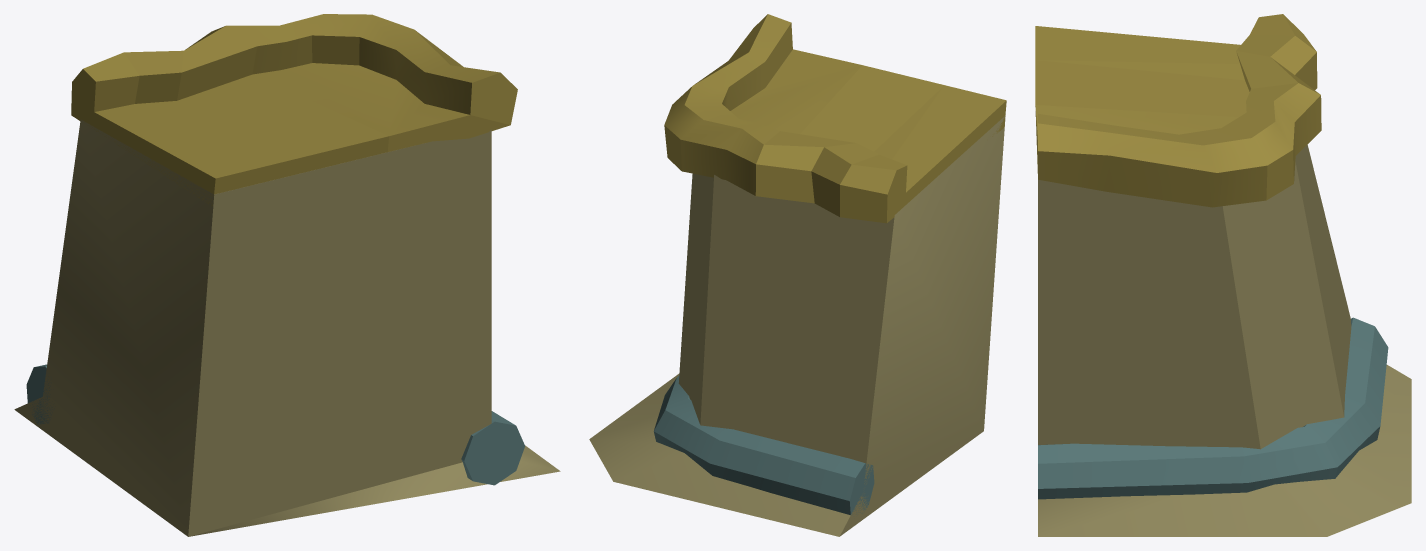
File: Int_11_Wall_Left_Down_Diagonal.fbx
3 views of the same model, side by side, from view 1: azimuth 30°, elevation 25°; view 2: azimuth 150°, elevation 25°; view 3: azimuth 270°, elevation 25° (orthographic). The views are drawn at different scales.
Visible parts, largest first — view 1: Int_11_Wall_Left_Down_Diagonal1; view 2: Int_11_Wall_Left_Down_Diagonal1; view 3: Int_11_Wall_Left_Down_Diagonal1.
Part boxes in pixels (x1=…): Int_11_Wall_Left_Down_Diagonal1: x1=14, y1=14, x2=560, y2=536; Int_11_Wall_Left_Down_Diagonal1: x1=589, y1=14, x2=1006, y2=536; Int_11_Wall_Left_Down_Diagonal1: x1=1035, y1=14, x2=1411, y2=536.
Bounding box in the file's own units: 1 × 1.14 × 1.01.
